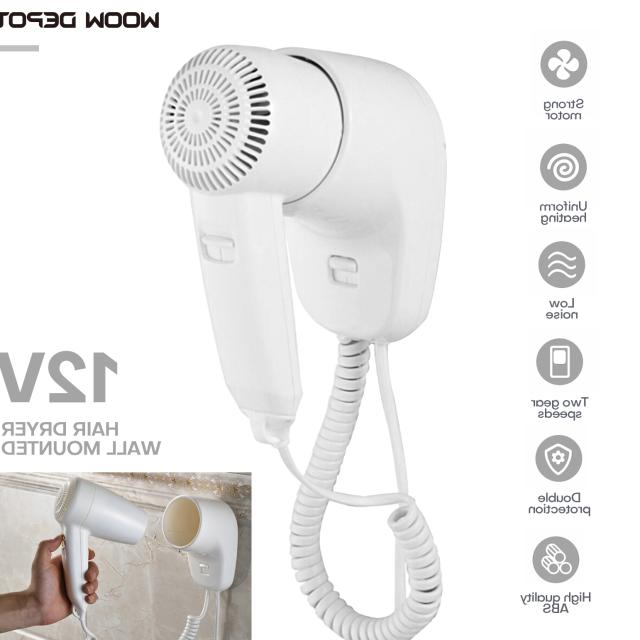dryer: (152, 33, 465, 640)
